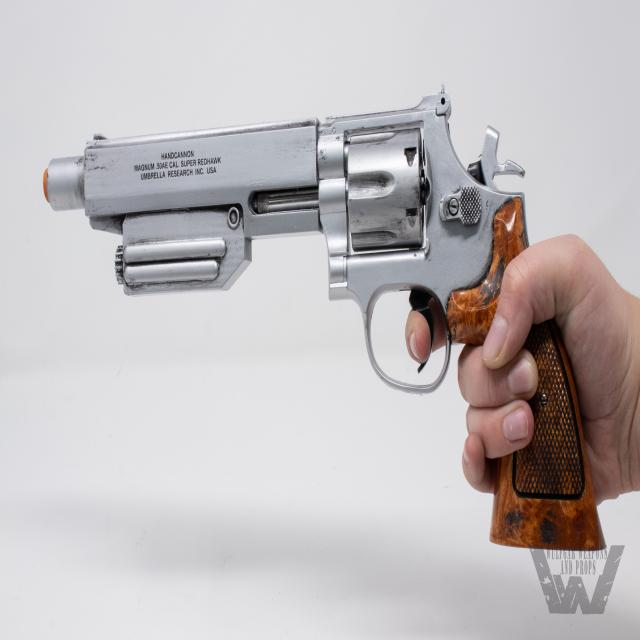HandGun: (42, 94, 606, 553)
